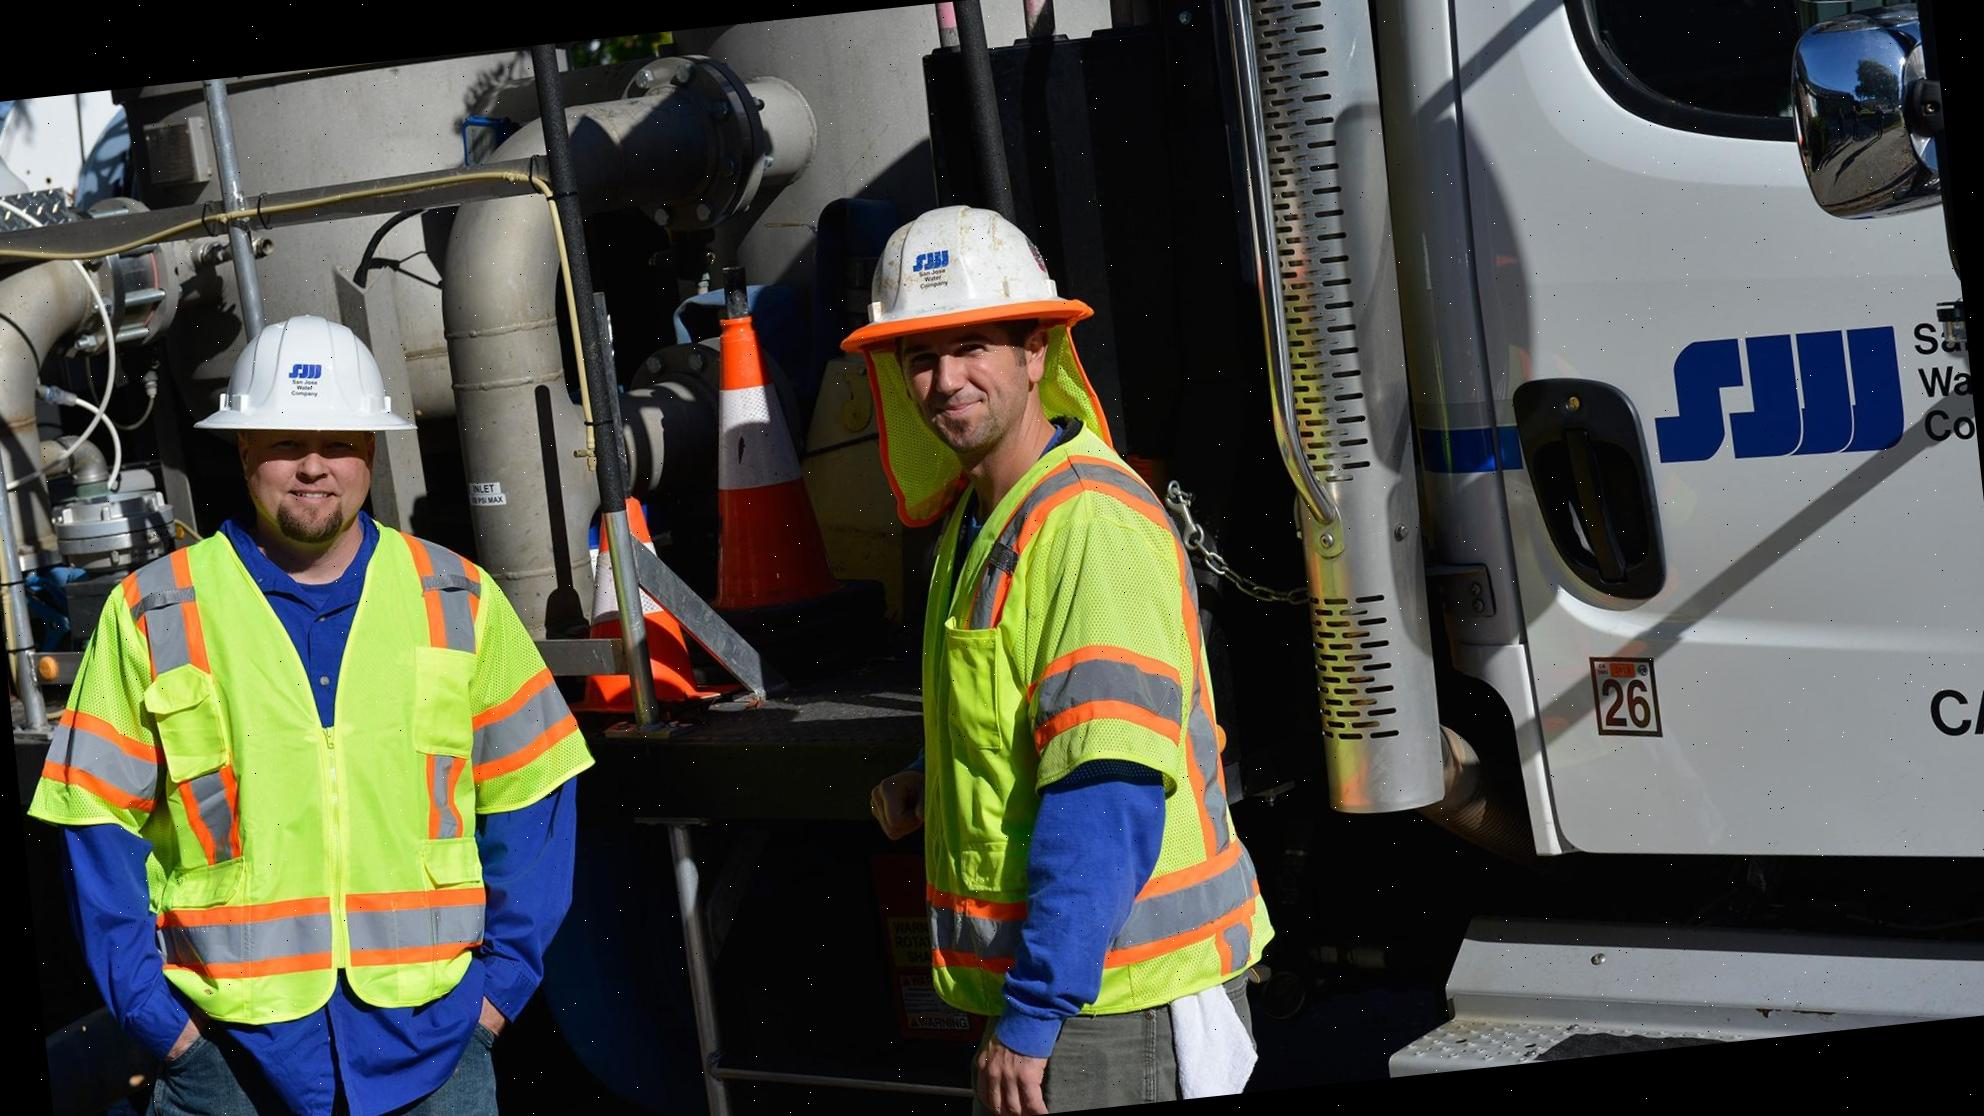helmet: (834, 187, 1101, 362), (170, 304, 420, 463)
wear: (63, 527, 530, 1102), (893, 441, 1278, 1021)
